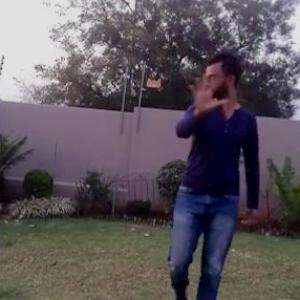follow_hand: (186, 68, 230, 114)
